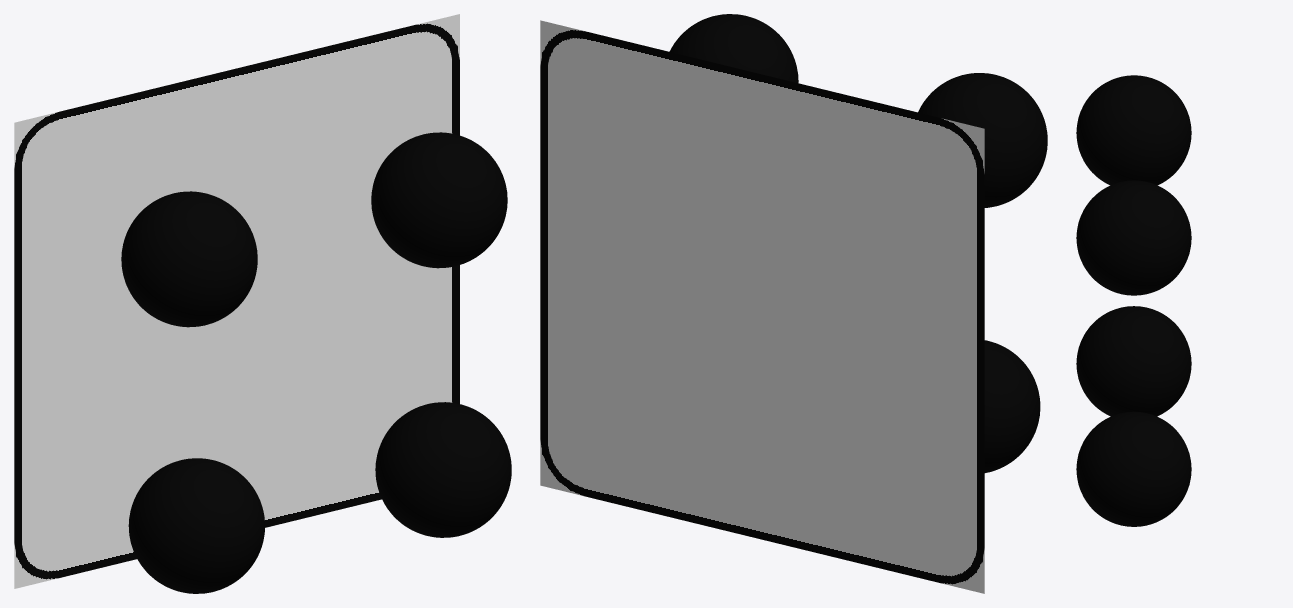
File: Dice4.glb
3 views of the same model, side by side, from view 1: azimuth 30°, elevation 25°; view 2: azimuth 150°, elevation 25°; view 3: azimuth 270°, elevation 25° (orthographic). The views are drawn at different scales.
Visible parts, largest first — view 1: mesh_id1, mesh_id44, mesh_id55, mesh_id45, mesh_id56; view 2: mesh_id1, mesh_id44, mesh_id56, mesh_id55; view 3: mesh_id45, mesh_id55, mesh_id56, mesh_id44.
Part boxes in pixels (x1=…): mesh_id1: x1=14, y1=14, x2=459, y2=588; mesh_id44: x1=121, y1=191, x2=257, y2=327; mesh_id55: x1=371, y1=132, x2=507, y2=268; mesh_id45: x1=375, y1=402, x2=511, y2=537; mesh_id56: x1=128, y1=458, x2=264, y2=593; mesh_id1: x1=540, y1=20, x2=984, y2=593; mesh_id44: x1=918, y1=73, x2=1047, y2=207; mesh_id56: x1=984, y1=340, x2=1040, y2=472; mesh_id55: x1=669, y1=14, x2=798, y2=82; mesh_id45: x1=1076, y1=411, x2=1191, y2=526; mesh_id55: x1=1076, y1=180, x2=1191, y2=295; mesh_id56: x1=1076, y1=306, x2=1191, y2=416; mesh_id44: x1=1076, y1=75, x2=1191, y2=185.
Size of the model in its own units: 0.604 by 0.604 by 0.2797.
Materials: 2 (2 with a texture image).
